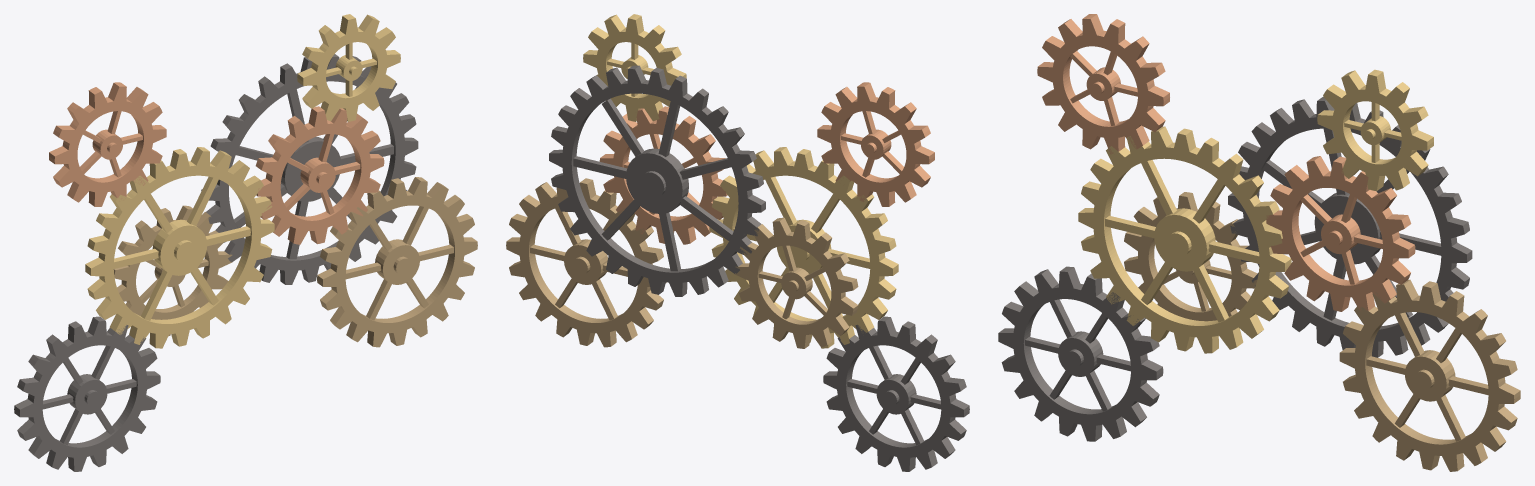
File: steampunk_mechanism.glb
The picture shows the model from 3 angles, left to right: view 1: azimuth 30°, elevation 25°; view 2: azimuth 150°, elevation 25°; view 3: azimuth 330°, elevation 25°; orthographic projection. The views are drawn at different scales.
Visible parts, largest first — view 1: Gear_01, Gear_04, Gear_07_Coaxial2, Gear_06, Gear_02, Gear_05, Gear_03, Gear_08_Deep; view 2: Gear_07_Coaxial2, Gear_04, Gear_06, Gear_01, Gear_08_Deep, Gear_05, Gear_02, Gear_03; view 3: Gear_01, Gear_04, Gear_07_Coaxial2, Gear_06, Gear_02, Gear_05, Gear_03, Gear_08_Deep.
Part boxes in pixels (<box>): Gear_01: <box>85,147,274,348</box>; Gear_04: <box>317,177,477,347</box>; Gear_07_Coaxial2: <box>201,54,418,284</box>; Gear_06: <box>14,316,160,471</box>; Gear_02: <box>255,106,384,244</box>; Gear_05: <box>49,82,166,206</box>; Gear_03: <box>297,14,400,121</box>; Gear_08_Deep: <box>113,205,232,336</box>; Gear_07_Coaxial2: <box>549,65,765,296</box>; Gear_04: <box>506,178,666,347</box>; Gear_06: <box>823,316,969,471</box>; Gear_01: <box>709,147,898,348</box>; Gear_08_Deep: <box>735,217,858,348</box>; Gear_05: <box>817,82,934,206</box>; Gear_02: <box>599,106,727,244</box>; Gear_03: <box>583,14,686,121</box>; Gear_01: <box>1078,126,1291,353</box>; Gear_04: <box>1339,279,1520,471</box>; Gear_07_Coaxial2: <box>1228,97,1472,357</box>; Gear_06: <box>998,266,1163,441</box>; Gear_02: <box>1266,156,1415,311</box>; Gear_05: <box>1037,14,1169,154</box>; Gear_03: <box>1317,69,1433,191</box>; Gear_08_Deep: <box>1124,192,1257,321</box>.
Size of the model in its own units: 15.35 by 12.39 by 1.16.
